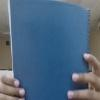notebook: (8, 0, 91, 99)
